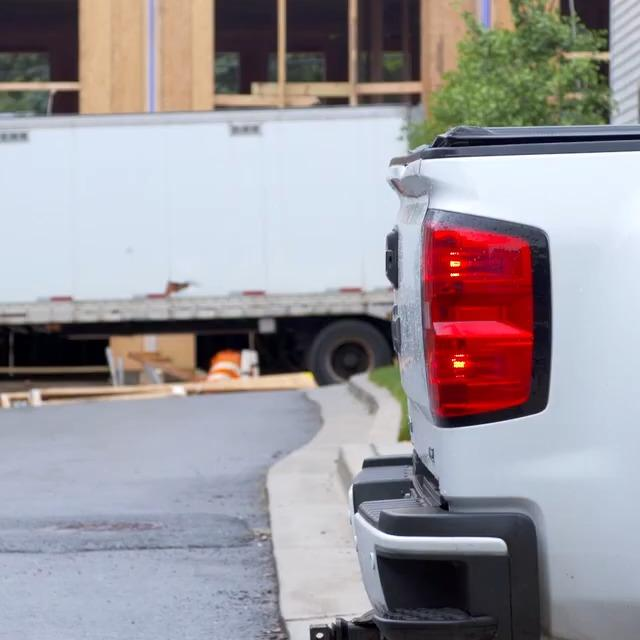Safety Cone: (209, 352, 244, 384)
trailer: (0, 100, 443, 382)
truck: (236, 112, 640, 640)
